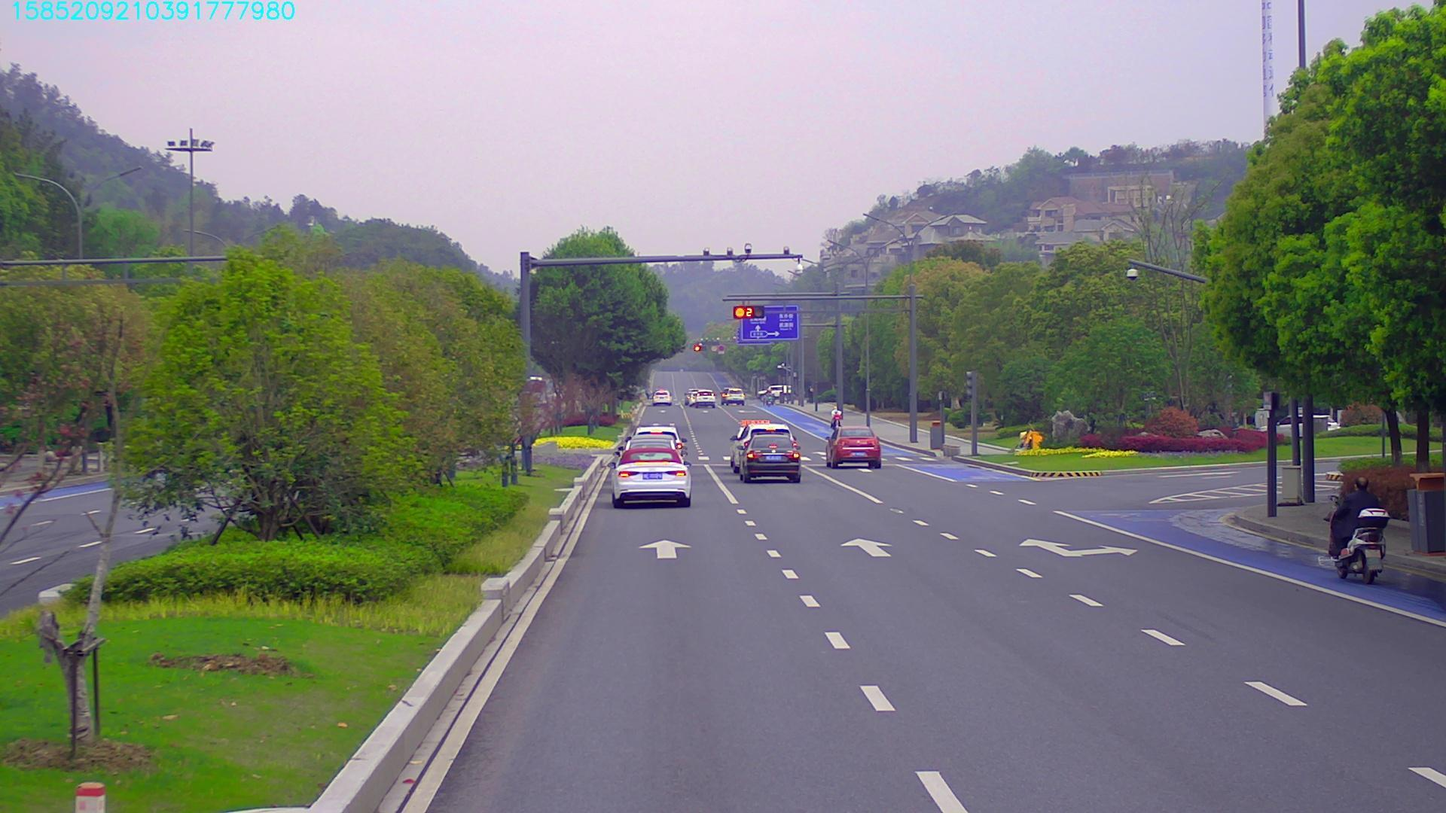red: (733, 304, 767, 317)
